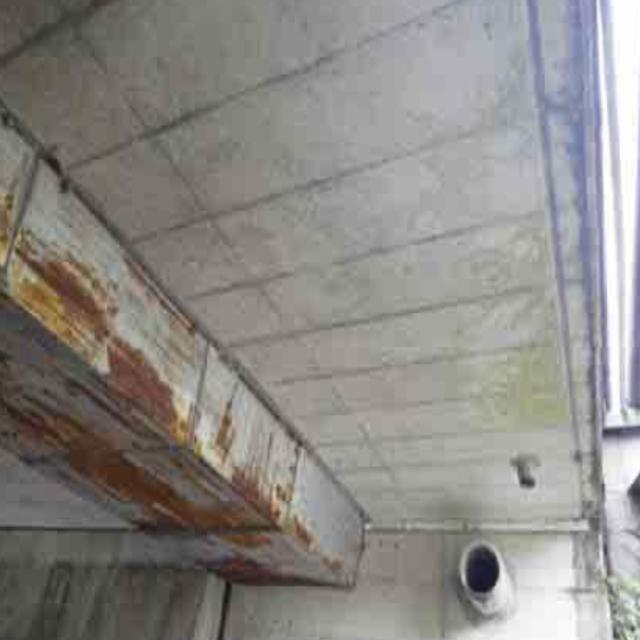corrosion: (9, 188, 348, 596)
